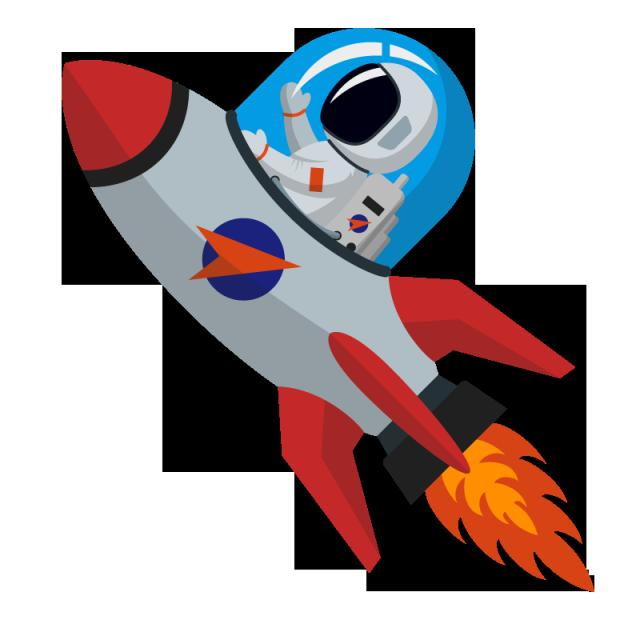rocket: (44, 17, 579, 582)
